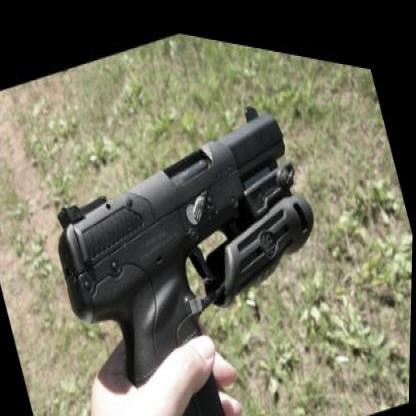pistol: (32, 45, 372, 415)
